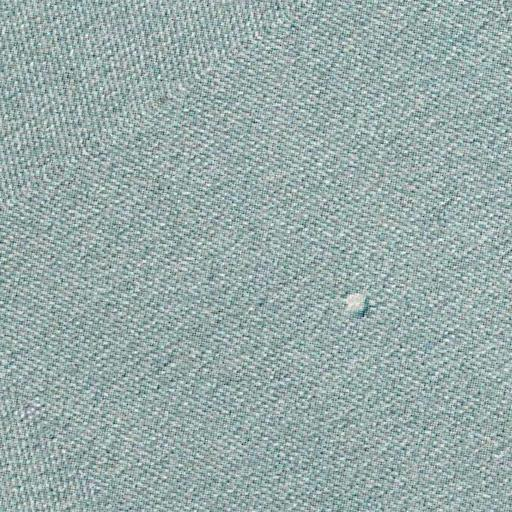knot: (330, 284, 378, 327)
